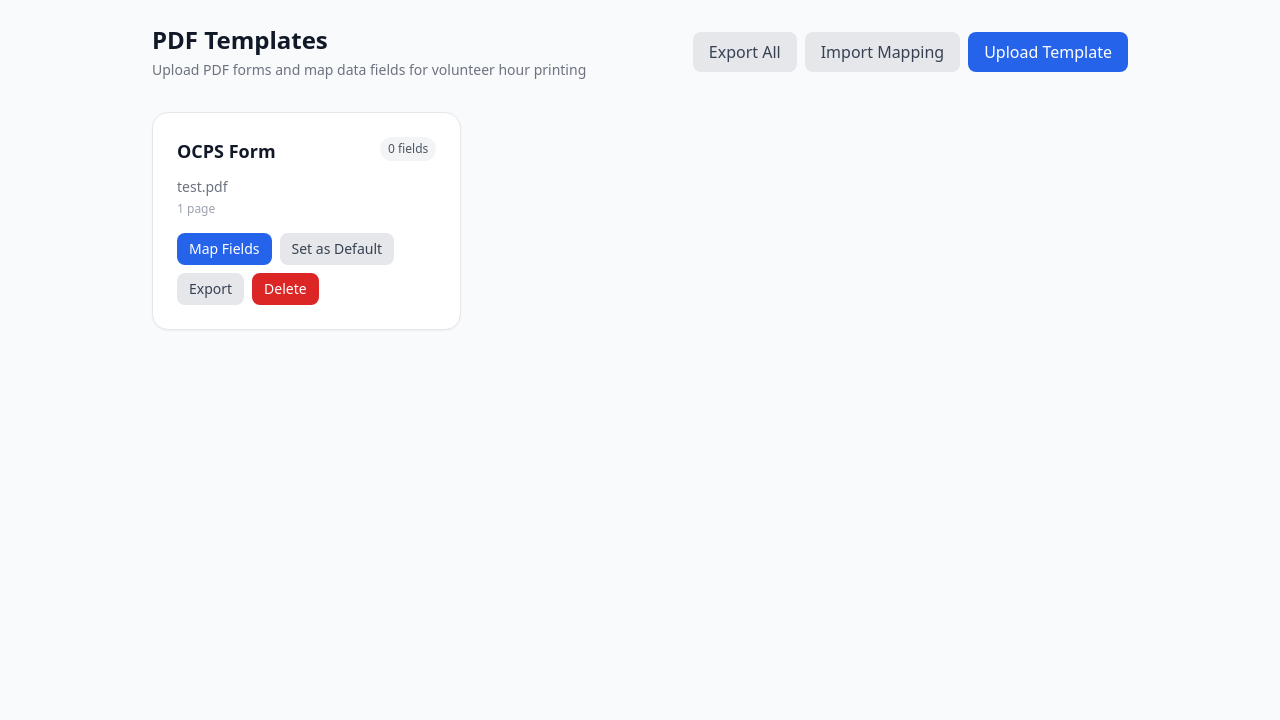
PdfTemplatesPage › field mapper modal › should open field mapper when Map Fields is clicked
The image size is (1280, 720).
Click the button "Map Fields" at (224, 249), box [177,233,272,265]
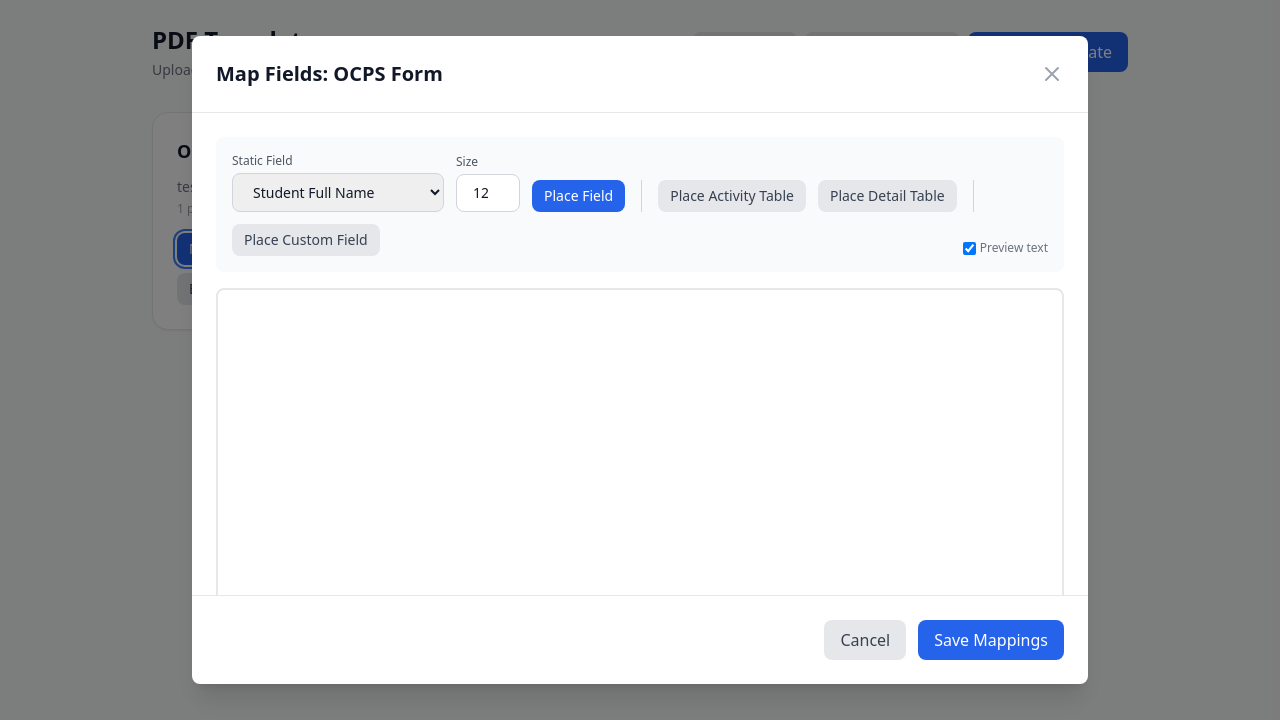
Expected: the heading "Map Fields: OCPS Form" is shown, [216,60,443,88]
